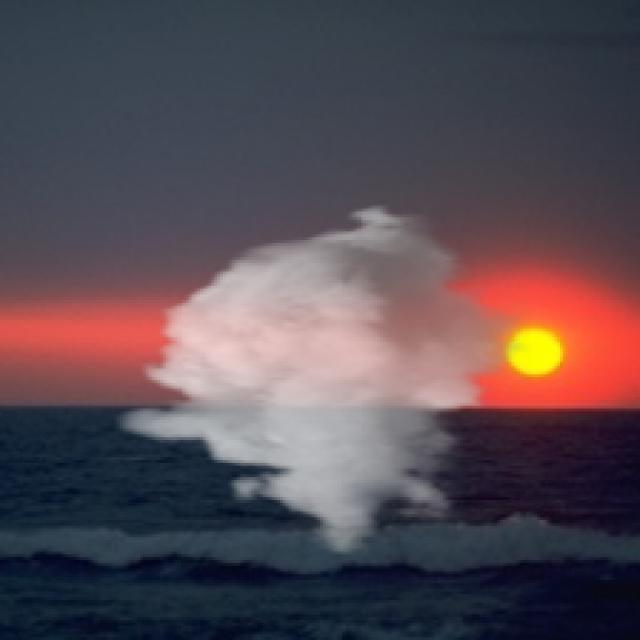Smoke: (111, 202, 532, 558)
